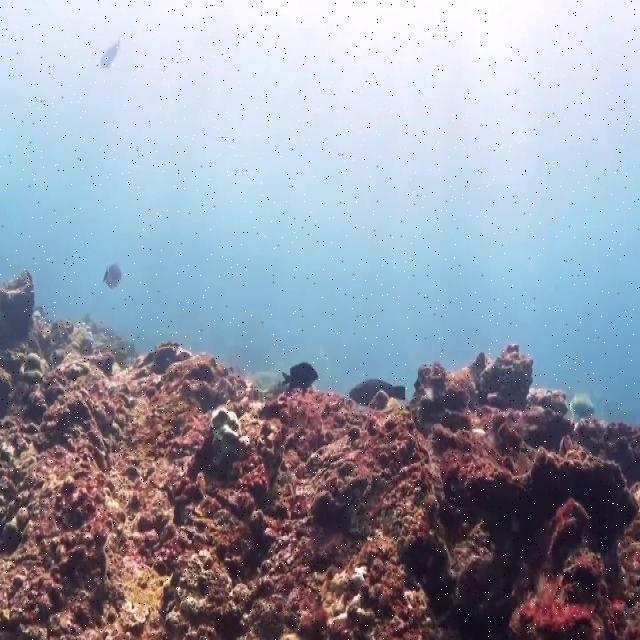fish: (349, 379, 406, 403), (282, 362, 317, 385), (101, 36, 120, 71), (103, 265, 122, 288), (570, 397, 594, 415)
sea-floor: (0, 272, 639, 639)
